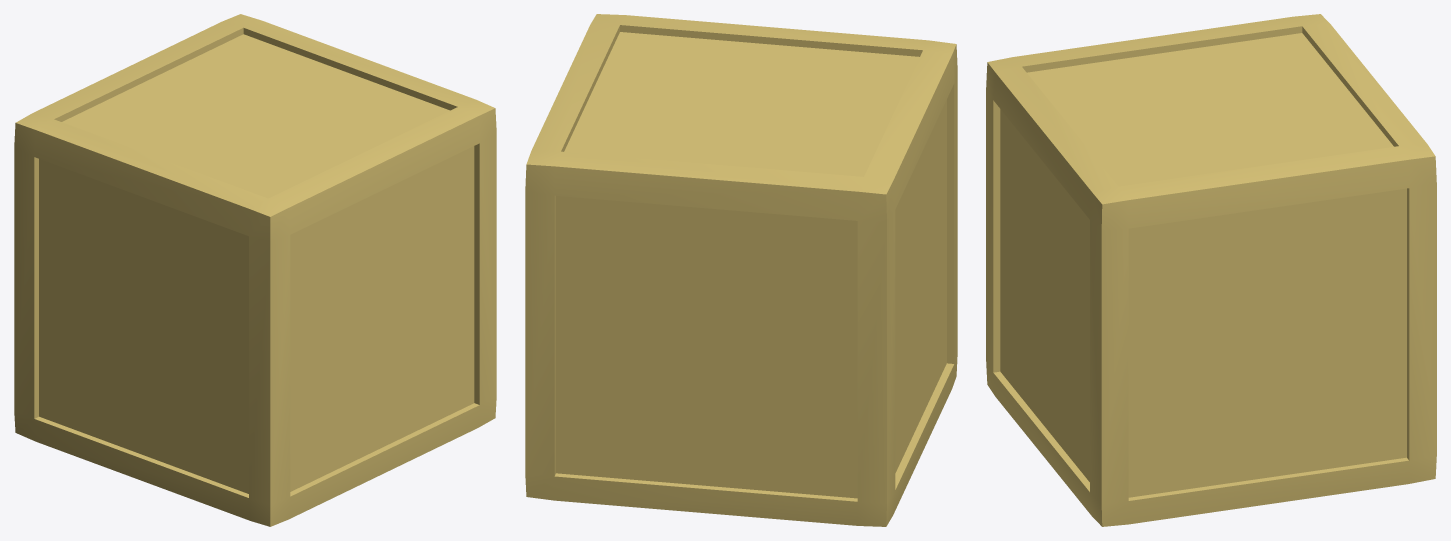
The model's file is ZG_Proxy_Box4.fbx.
3 views of the same model, side by side, from view 1: azimuth 30°, elevation 25°; view 2: azimuth 150°, elevation 25°; view 3: azimuth 270°, elevation 25° (orthographic). The views are drawn at different scales.
Visible parts, largest first — view 1: CardboardBox; view 2: CardboardBox; view 3: CardboardBox.
Part boxes in pixels (x1,y1,x2,y2): CardboardBox: (14, 14, 496, 526); CardboardBox: (525, 14, 957, 526); CardboardBox: (986, 14, 1436, 526).
Size of the model in its own units: 107 by 85.8 by 107.
